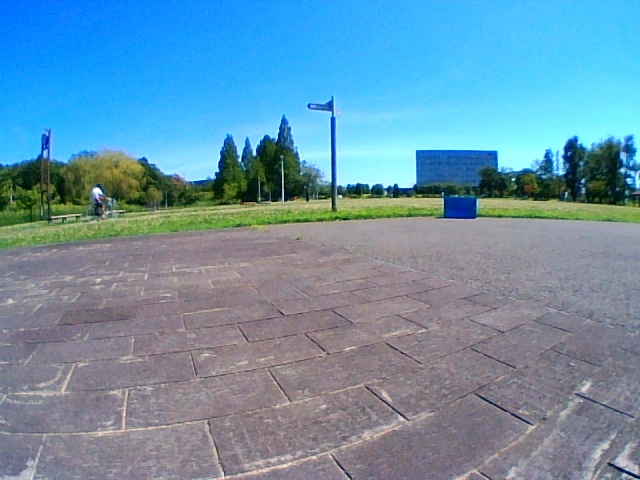blue_box: (444, 196, 476, 218)
